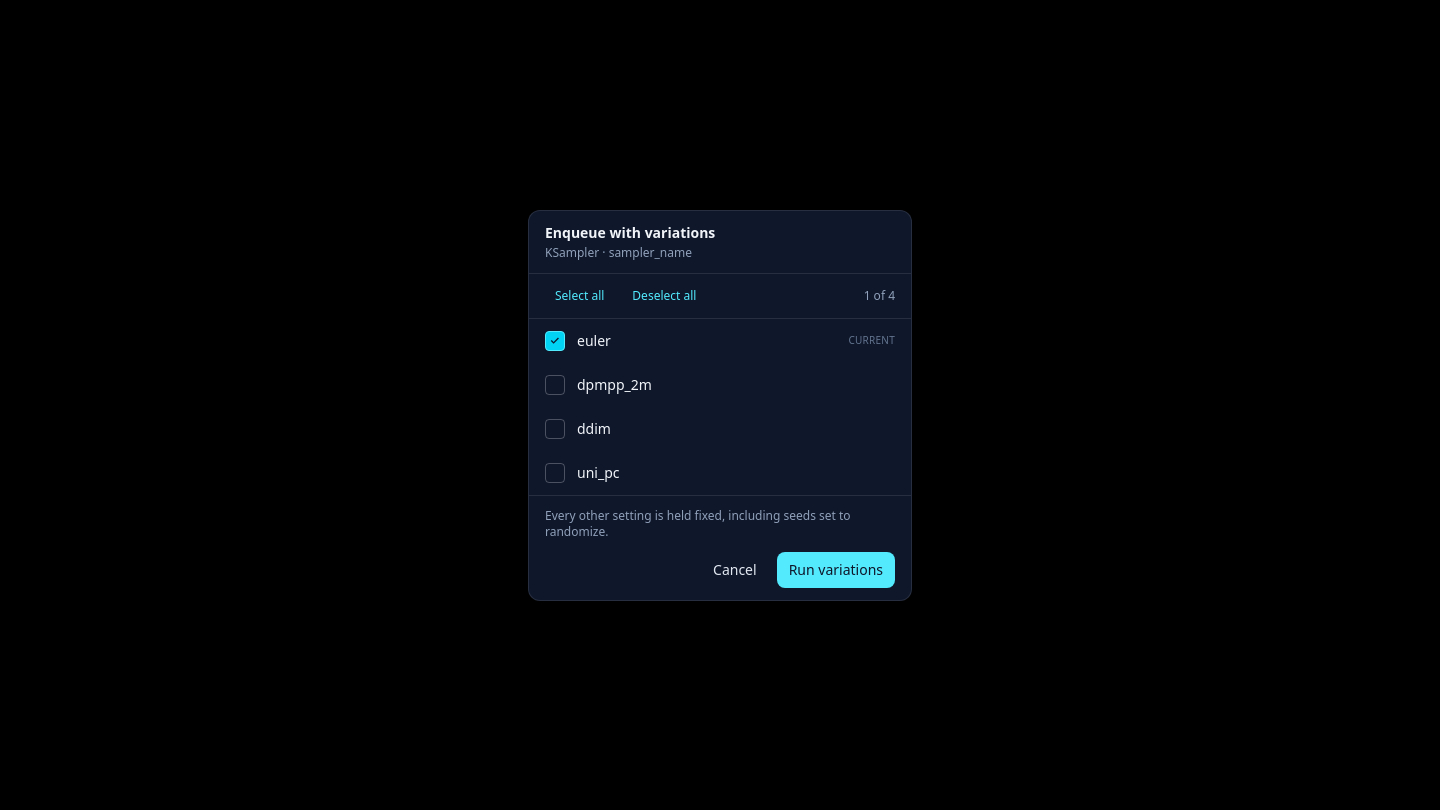
Test: WidgetVariationsModal › selects and clears the whole list from the toolbar
Click the button with class "widget-variations-select-all": (580, 296) x1=545 y1=282 x2=614 y2=310
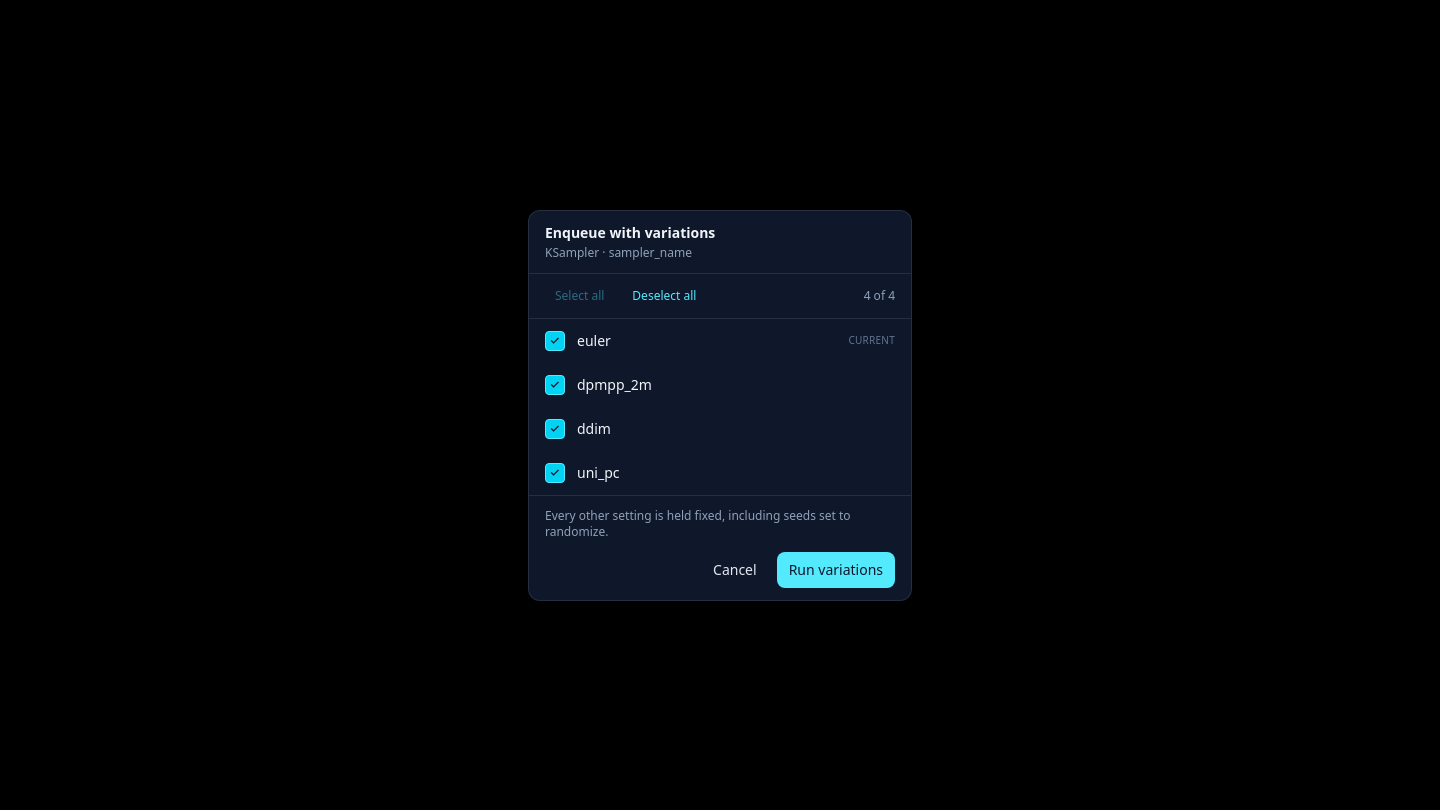
expect the text with class "widget-variations-count" reads "4 of 4": met, box x1=864 y1=286 x2=895 y2=304
Click the button with class "widget-variations-deselect-all": (664, 296) x1=622 y1=282 x2=706 y2=310
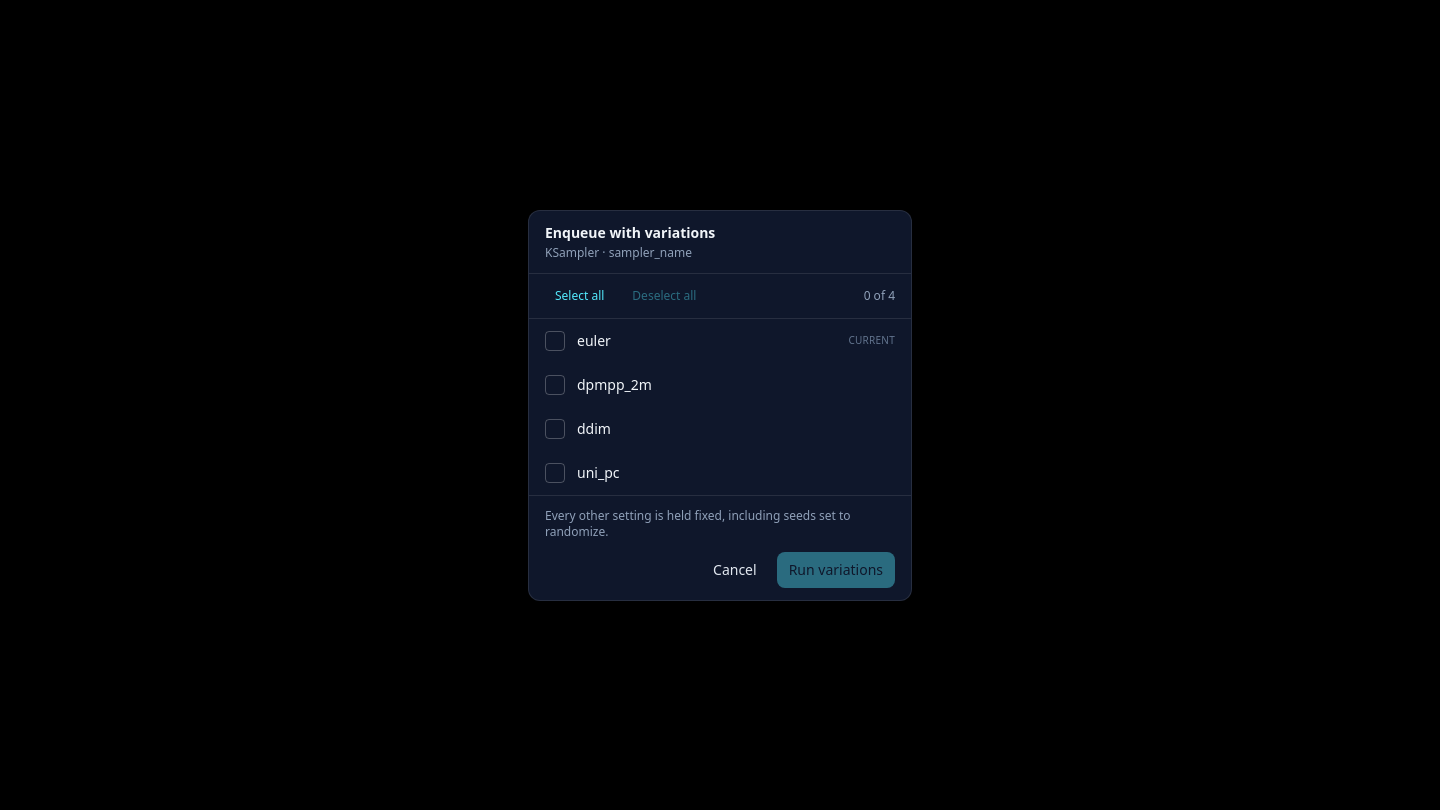
expect the text with class "widget-variations-count" reads "0 of 4": met, box x1=864 y1=286 x2=895 y2=304
